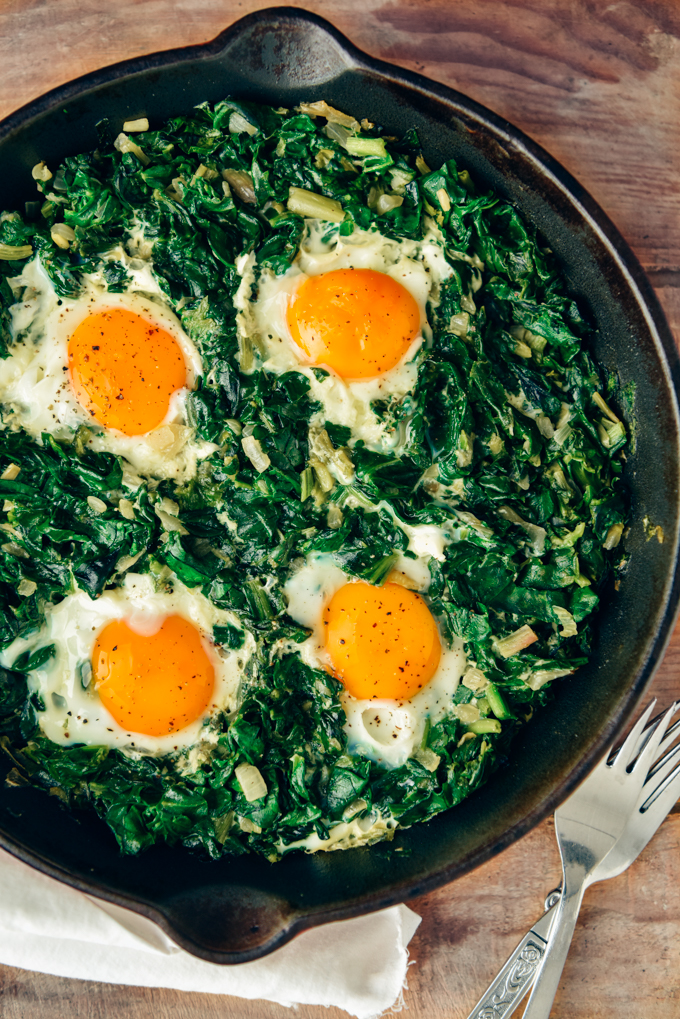chopped lettuce: (474, 280, 586, 654)
fried egg: (264, 238, 431, 449), (53, 283, 212, 482), (76, 595, 250, 752), (305, 563, 459, 735)
